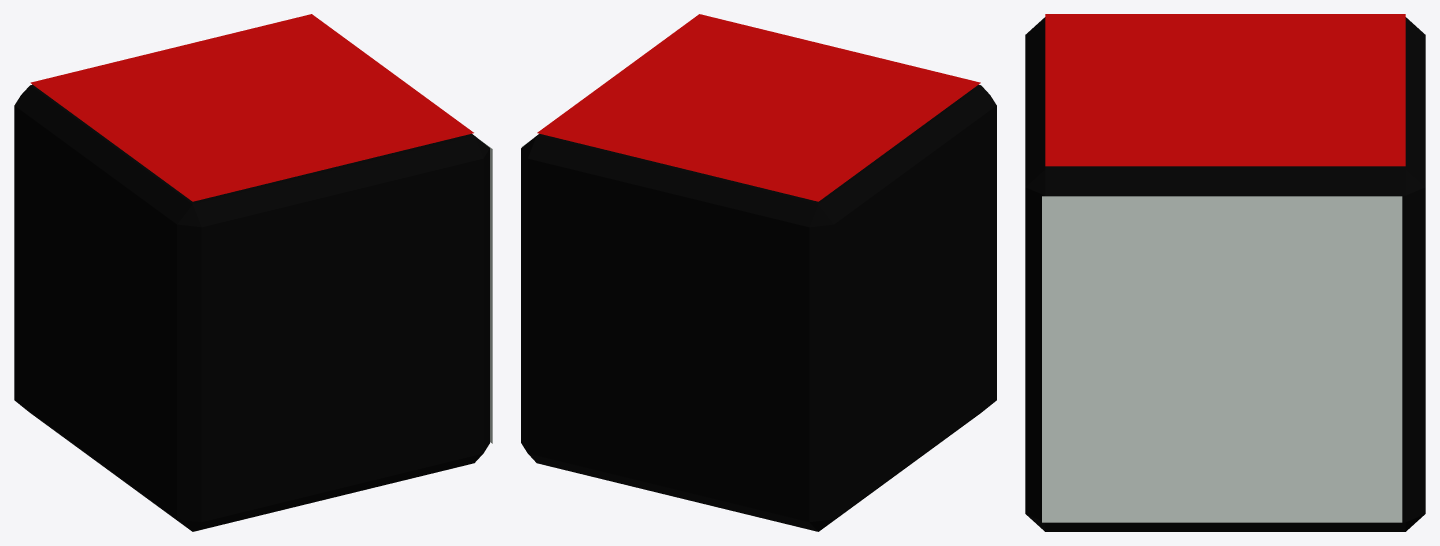
The model's file is rubic2.obj.
3 views of the same model, side by side, from view 1: azimuth 30°, elevation 25°; view 2: azimuth 150°, elevation 25°; view 3: azimuth 270°, elevation 25° (orthographic). The views are drawn at different scales.
Visible parts, largest first — view 1: Cube.007_Cube.008; view 2: Cube.007_Cube.008; view 3: Cube.007_Cube.008.
Part boxes in pixels (x1,y1,x2,y2): Cube.007_Cube.008: (14, 14, 492, 531); Cube.007_Cube.008: (521, 14, 996, 531); Cube.007_Cube.008: (1025, 14, 1425, 531).
Size of the model in its own units: 2.01 by 2.02 by 2.
